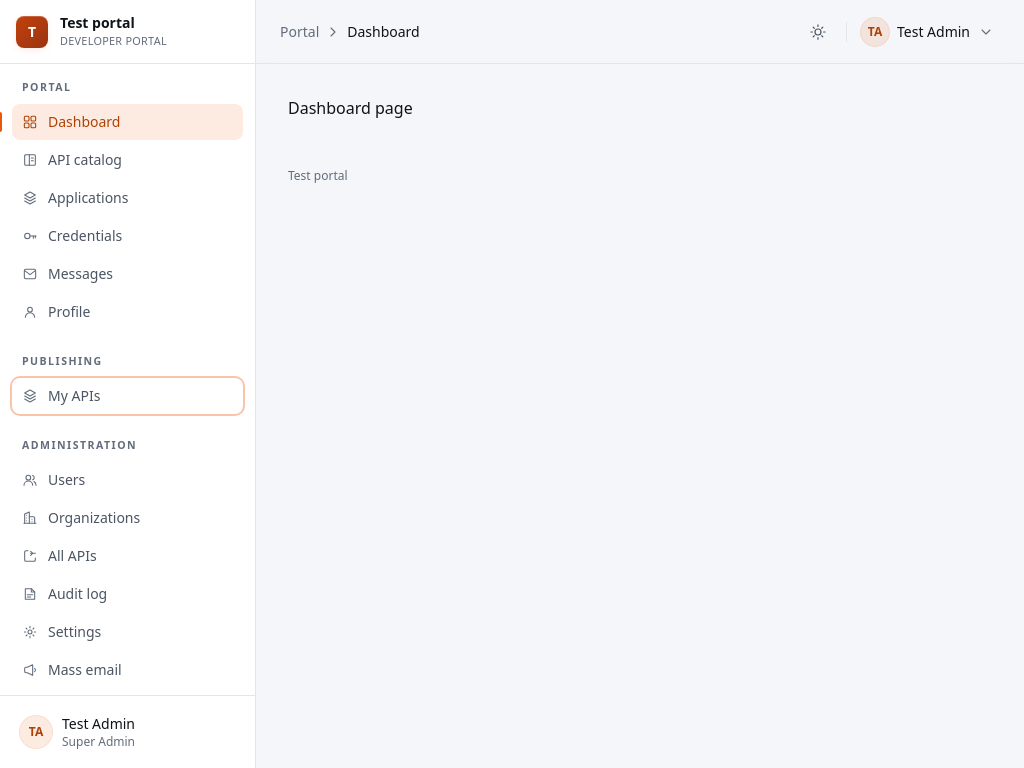
Test: mobile navigation drawer › leaves desktop links available and does not move focus on Escape or navigation
The width and height of the screenshot is (1024, 768).
Press Escape
Click the link "My APIs".
click(128, 396)  # box [12,378,243,414]
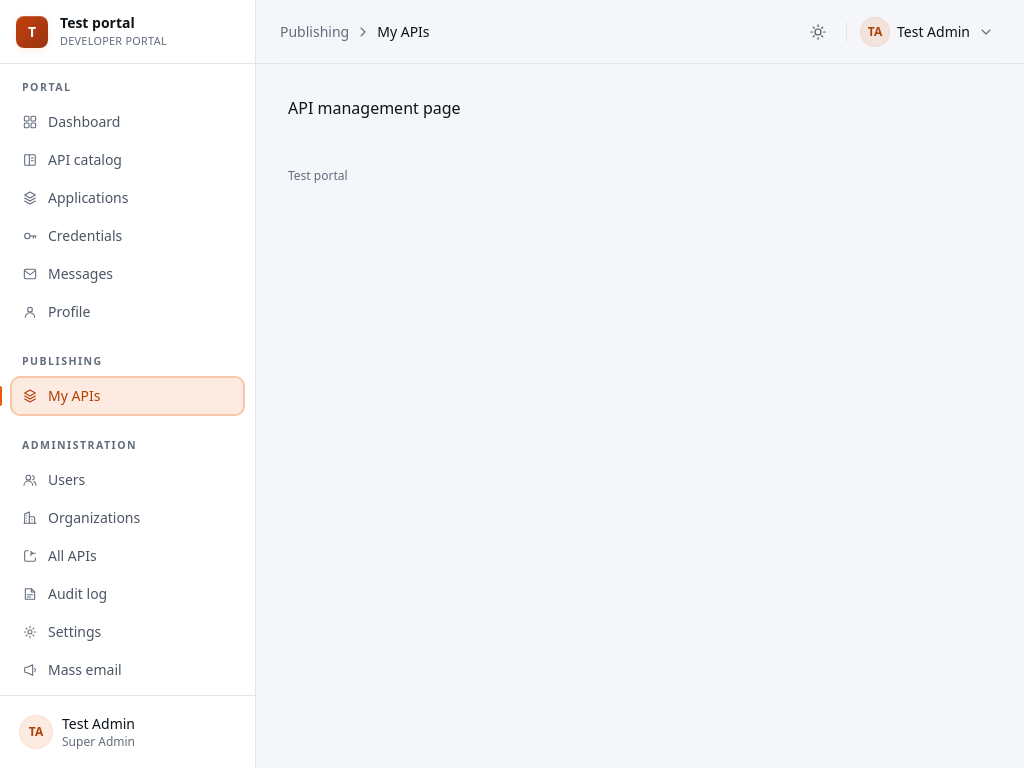
Expected: the heading "API management page" is shown, [288,97,461,119]
